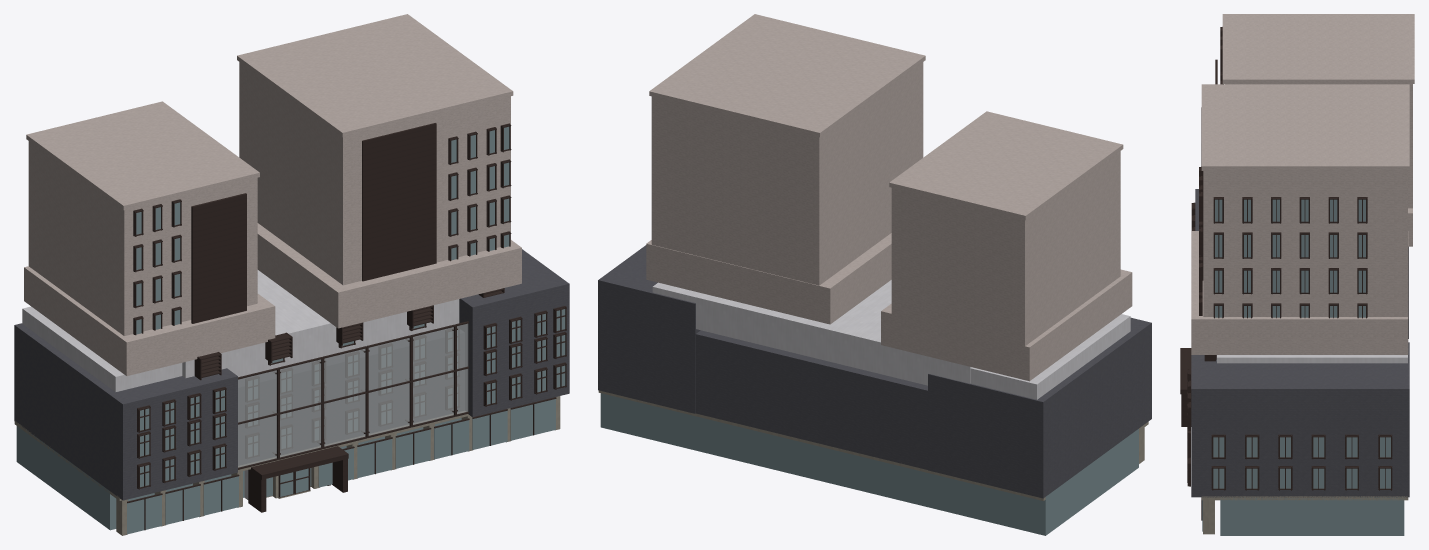
File: the_hive.glb
The picture shows the model from 3 angles, left to right: view 1: azimuth 30°, elevation 25°; view 2: azimuth 150°, elevation 25°; view 3: azimuth 270°, elevation 25°; orthographic projection.
Visible parts, largest first — view 1: HIVE_UpperTower_A_MAT_PaleBrick_PLACEHOLDER, HIVE_UpperTower_B_MAT_PaleBrick_PLACEHOLDER, HIVE_DarkBrickVolume_MAT_DarkBrick_PLACEHOLDER, HIVE_ScreenFacade_MAT_MetalScreen_PLACEHOLDER, HIVE_GroundFloor_MAT_Glass_PLACEHOLDER, HIVE_UpperTower_A_MAT_DarkMetal_PLACEHOLDER, HIVE_RecessedFloor_MAT_WhiteWall_PLACEHOLDER, HIVE_DarkBrickVolume_MAT_DarkMetal_PLACEHOLDER, HIVE_UpperTower_B_MAT_DarkMetal_PLACEHOLDER, HIVE_DarkBrickVolume_MAT_Glass_PLACEHOLDER, HIVE_ScreenFacade_MAT_DarkMetal_PLACEHOLDER, HIVE_GroundFloor_MAT_Concrete_PLACEHOLDER (+5 smaller); view 2: HIVE_UpperTower_A_MAT_PaleBrick_PLACEHOLDER, HIVE_DarkBrickVolume_MAT_DarkBrick_PLACEHOLDER, HIVE_UpperTower_B_MAT_PaleBrick_PLACEHOLDER, HIVE_GroundFloor_MAT_Glass_PLACEHOLDER, HIVE_RecessedFloor_MAT_WhiteWall_PLACEHOLDER, HIVE_GroundFloor_MAT_Concrete_PLACEHOLDER; view 3: HIVE_UpperTower_A_MAT_PaleBrick_PLACEHOLDER, HIVE_DarkBrickVolume_MAT_DarkBrick_PLACEHOLDER, HIVE_UpperTower_B_MAT_PaleBrick_PLACEHOLDER, HIVE_GroundFloor_MAT_Glass_PLACEHOLDER, HIVE_UpperTower_A_MAT_DarkMetal_PLACEHOLDER, HIVE_UpperTower_A_MAT_Glass_PLACEHOLDER, HIVE_BuildingShell_MAT_Glass_PLACEHOLDER, HIVE_BuildingShell_MAT_DarkMetal_PLACEHOLDER, HIVE_RecessedFloor_MAT_WhiteWall_PLACEHOLDER, HIVE_GroundFloor_MAT_Concrete_PLACEHOLDER, HIVE_DarkBrickVolume_MAT_DarkMetal_PLACEHOLDER, ACE_EntranceCanopy.
Boxes of the visible parts, x1=… form: HIVE_UpperTower_A_MAT_PaleBrick_PLACEHOLDER: x1=237, y1=14, x2=521, y2=328; HIVE_UpperTower_B_MAT_PaleBrick_PLACEHOLDER: x1=24, y1=101, x2=275, y2=375; HIVE_DarkBrickVolume_MAT_DarkBrick_PLACEHOLDER: x1=14, y1=249, x2=569, y2=500; HIVE_ScreenFacade_MAT_MetalScreen_PLACEHOLDER: x1=238, y1=323, x2=468, y2=467; HIVE_GroundFloor_MAT_Glass_PLACEHOLDER: x1=16, y1=399, x2=555, y2=534; HIVE_UpperTower_A_MAT_DarkMetal_PLACEHOLDER: x1=362, y1=123, x2=511, y2=281; HIVE_RecessedFloor_MAT_WhiteWall_PLACEHOLDER: x1=22, y1=270, x2=459, y2=391; HIVE_DarkBrickVolume_MAT_DarkMetal_PLACEHOLDER: x1=137, y1=306, x2=566, y2=489; HIVE_UpperTower_B_MAT_DarkMetal_PLACEHOLDER: x1=133, y1=193, x2=246, y2=335; HIVE_DarkBrickVolume_MAT_Glass_PLACEHOLDER: x1=140, y1=309, x2=565, y2=487; HIVE_ScreenFacade_MAT_DarkMetal_PLACEHOLDER: x1=238, y1=321, x2=468, y2=469; HIVE_GroundFloor_MAT_Concrete_PLACEHOLDER: x1=14, y1=396, x2=560, y2=535; HIVE_UpperTower_A_MAT_PaleBrick_PLACEHOLDER: x1=646, y1=14, x2=925, y2=324; HIVE_DarkBrickVolume_MAT_DarkBrick_PLACEHOLDER: x1=598, y1=245, x2=1151, y2=498; HIVE_UpperTower_B_MAT_PaleBrick_PLACEHOLDER: x1=881, y1=111, x2=1132, y2=381; HIVE_GroundFloor_MAT_Glass_PLACEHOLDER: x1=600, y1=393, x2=1138, y2=535; HIVE_RecessedFloor_MAT_WhiteWall_PLACEHOLDER: x1=652, y1=280, x2=1130, y2=399; HIVE_GroundFloor_MAT_Concrete_PLACEHOLDER: x1=598, y1=390, x2=1148, y2=500; HIVE_UpperTower_A_MAT_PaleBrick_PLACEHOLDER: x1=1191, y1=84, x2=1409, y2=354; HIVE_DarkBrickVolume_MAT_DarkBrick_PLACEHOLDER: x1=1191, y1=189, x2=1409, y2=497; HIVE_UpperTower_B_MAT_PaleBrick_PLACEHOLDER: x1=1222, y1=14, x2=1414, y2=246; HIVE_GroundFloor_MAT_Glass_PLACEHOLDER: x1=1202, y1=497, x2=1404, y2=535; HIVE_UpperTower_A_MAT_DarkMetal_PLACEHOLDER: x1=1199, y1=107, x2=1367, y2=318; HIVE_UpperTower_A_MAT_Glass_PLACEHOLDER: x1=1215, y1=199, x2=1365, y2=317; HIVE_BuildingShell_MAT_Glass_PLACEHOLDER: x1=1213, y1=437, x2=1390, y2=488; HIVE_BuildingShell_MAT_DarkMetal_PLACEHOLDER: x1=1211, y1=434, x2=1392, y2=490; HIVE_RecessedFloor_MAT_WhiteWall_PLACEHOLDER: x1=1217, y1=355, x2=1407, y2=363; HIVE_GroundFloor_MAT_Concrete_PLACEHOLDER: x1=1201, y1=496, x2=1408, y2=534; HIVE_DarkBrickVolume_MAT_DarkMetal_PLACEHOLDER: x1=1187, y1=202, x2=1195, y2=486; ACE_EntranceCanopy: x1=1180, y1=348, x2=1191, y2=394.
Size of the model in its own units: 44.29 by 33.13 by 20.4.
Materials: 9 (6 with a texture image).
